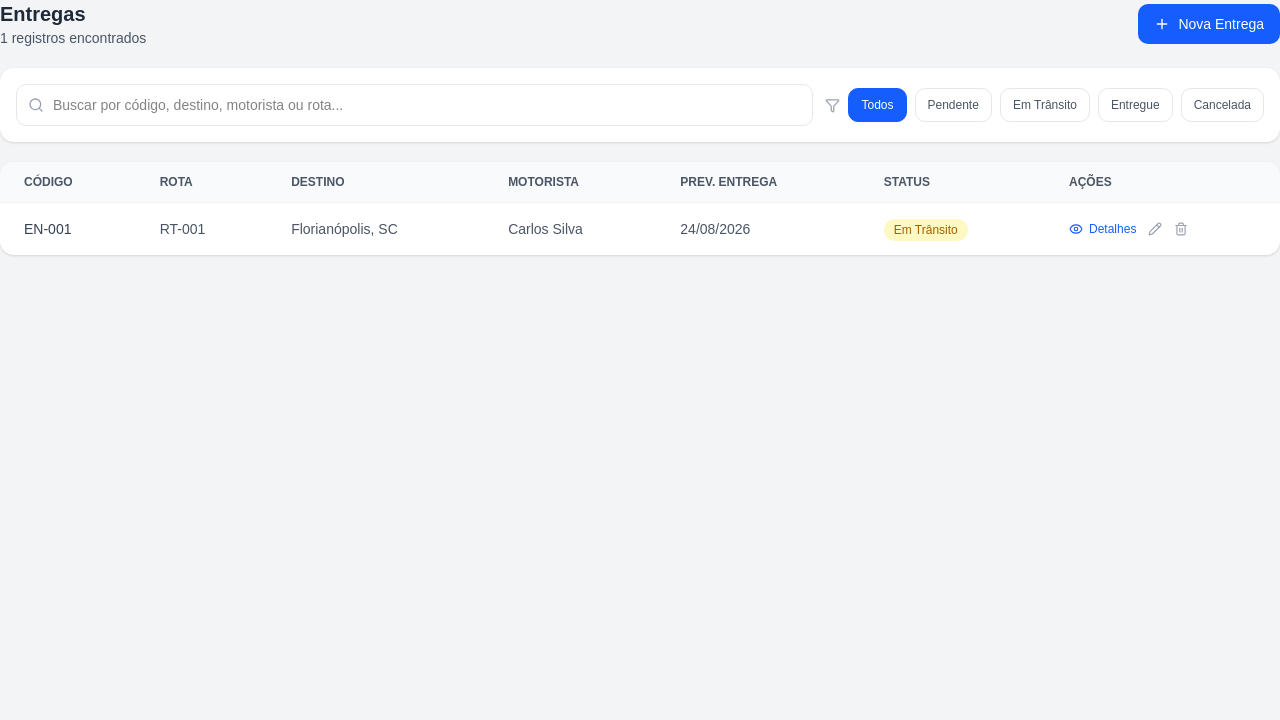
Entregas › exibe detalhes da entrega ao clicar em Detalhes
expect the text "EN-001" is shown: met, box top-left (0, 202), bottom-right (136, 255)
Click the button "Detalhes": (1103, 229) top-left (1069, 221), bottom-right (1136, 237)
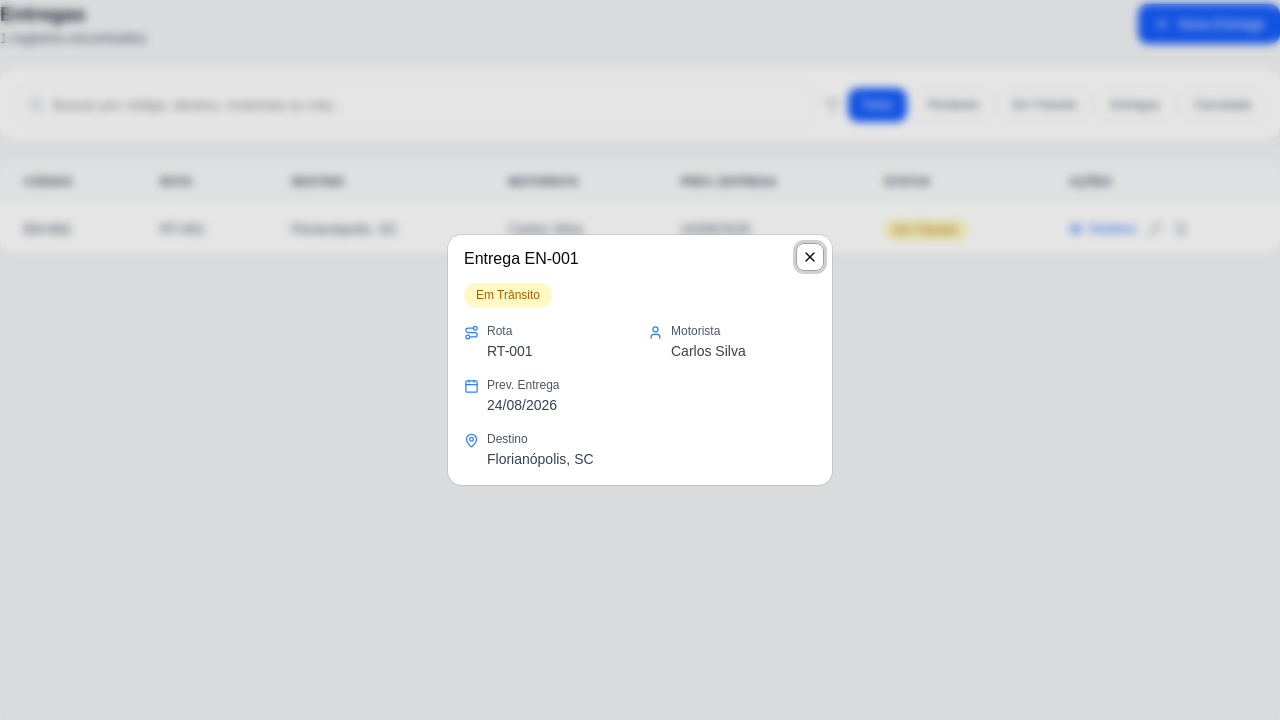
expect the dialog "Entrega EN-001" is shown: met, box top-left (448, 235), bottom-right (832, 485)
